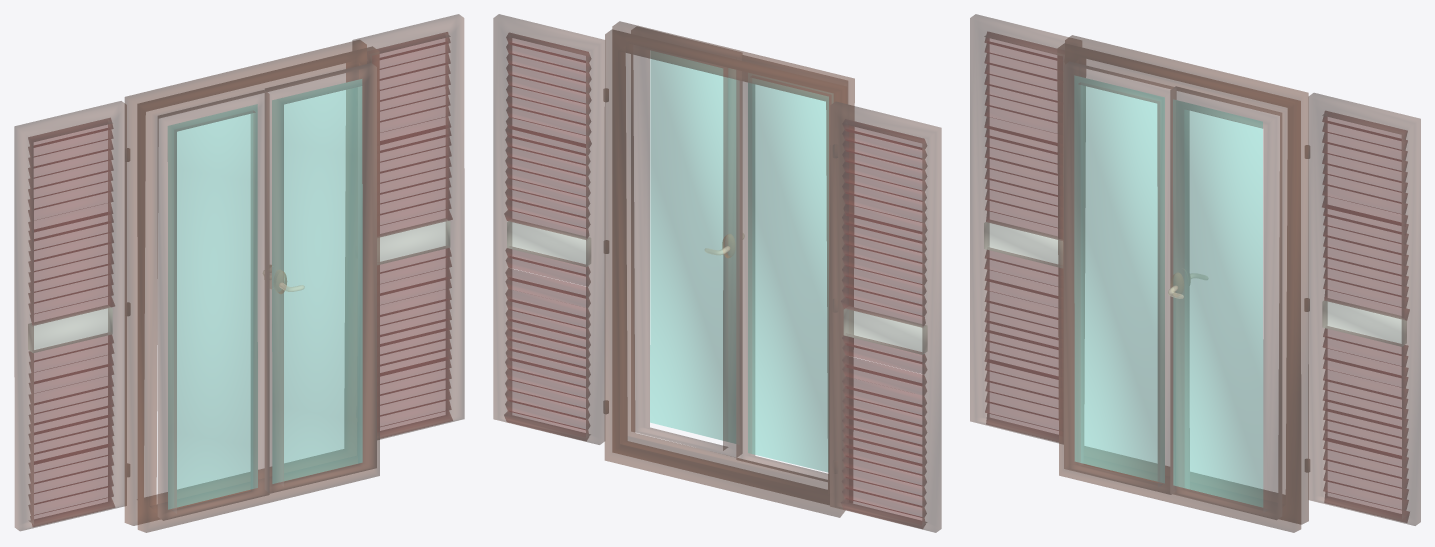
Rendered from ball.glb.
The picture shows the model from 3 angles, left to right: view 1: azimuth 30°, elevation 25°; view 2: azimuth 150°, elevation 25°; view 3: azimuth 330°, elevation 25°; orthographic projection.
Visible parts, largest first — view 1: door_window; view 2: door_window; view 3: door_window.
Part boxes in pixels (x1,y1,x2,y2): door_window: (14,14,464,532); door_window: (493,14,941,532); door_window: (970,14,1420,532).
Size of the model in its own units: 2.29 by 2.1 by 0.3891.
